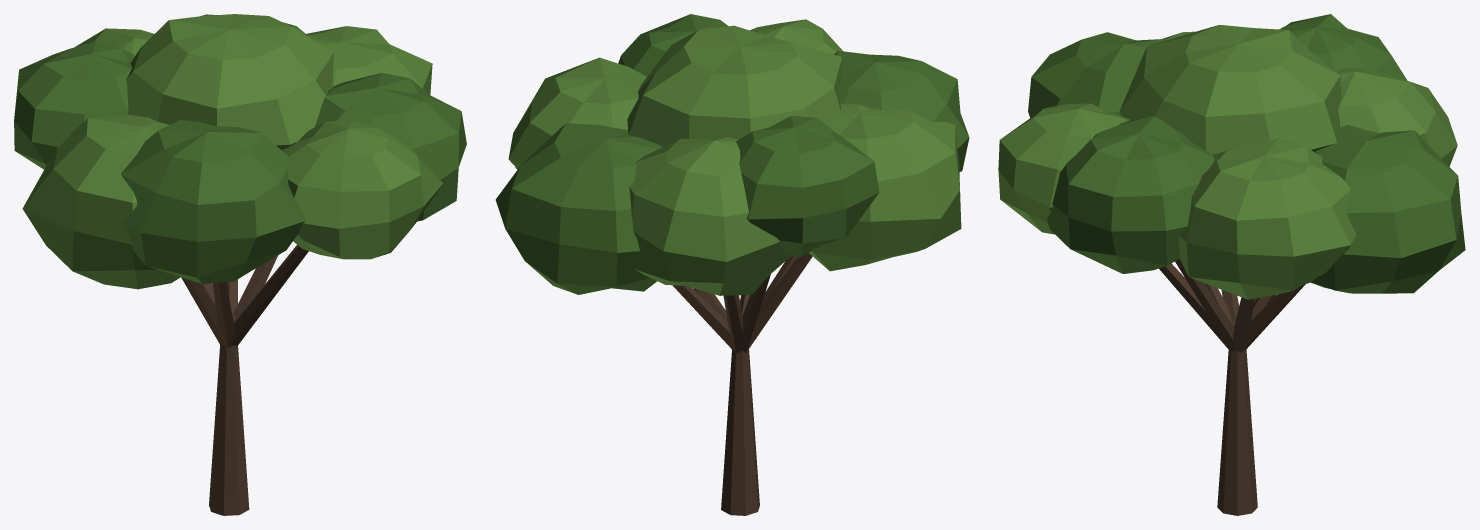
Rendered from tree_elm_large.glb.
The picture shows the model from 3 angles, left to right: view 1: azimuth 30°, elevation 25°; view 2: azimuth 150°, elevation 25°; view 3: azimuth 270°, elevation 25°; orthographic projection. The views are drawn at different scales.
Visible parts, largest first — view 1: tree_elm_large; view 2: tree_elm_large; view 3: tree_elm_large.
Boxes of the visible parts, x1,y1,x2,y2 form: tree_elm_large: [14, 14, 466, 515]; tree_elm_large: [495, 14, 969, 515]; tree_elm_large: [998, 14, 1465, 515].
Size of the model in its own units: 16.44 by 18.15 by 16.59.
